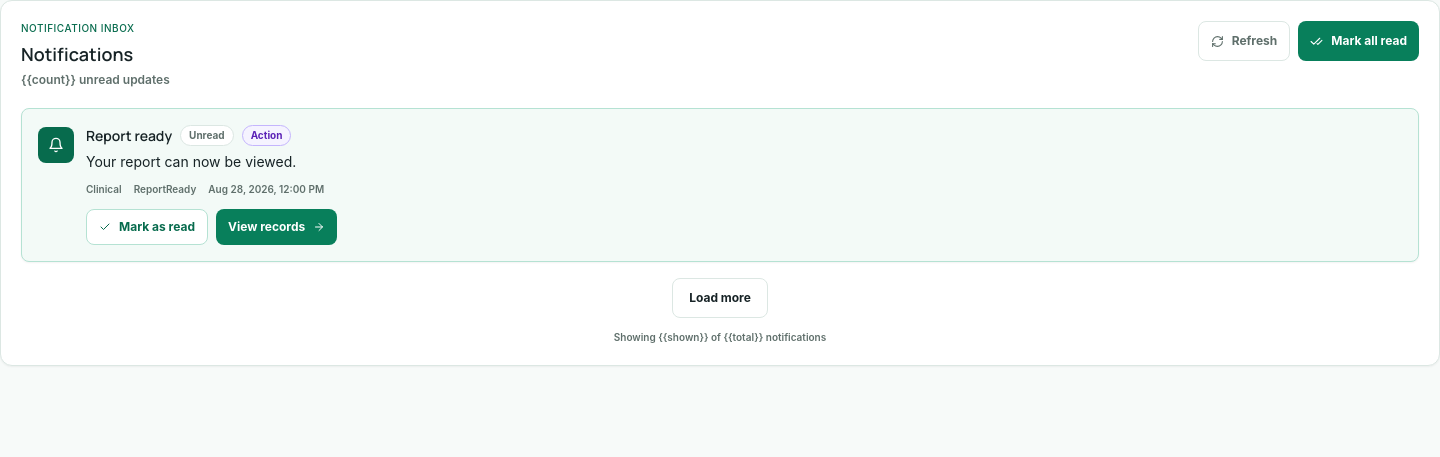
PortalNotificationsView › loads and appends the next page
Click the button "Load more" at (720, 298), box x1=672 y1=278 x2=768 y2=318
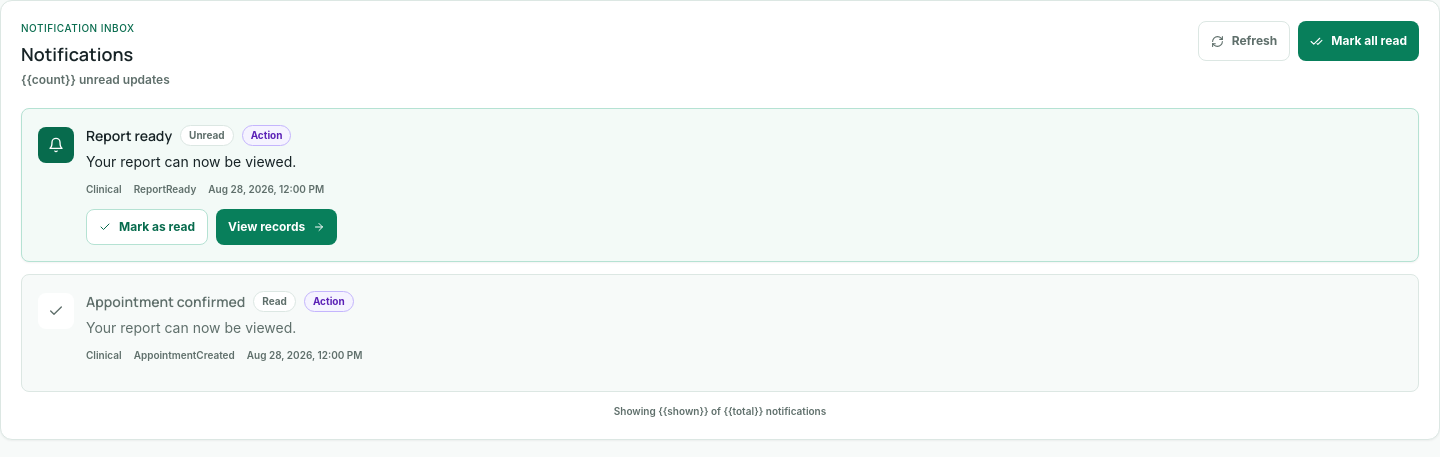
Expected: the heading "Appointment confirmed" is shown, x1=86 y1=292 x2=245 y2=312
Expected: the number of list items is 2, x1=21 y1=108 x2=1419 y2=262; x1=21 y1=274 x2=1419 y2=392
